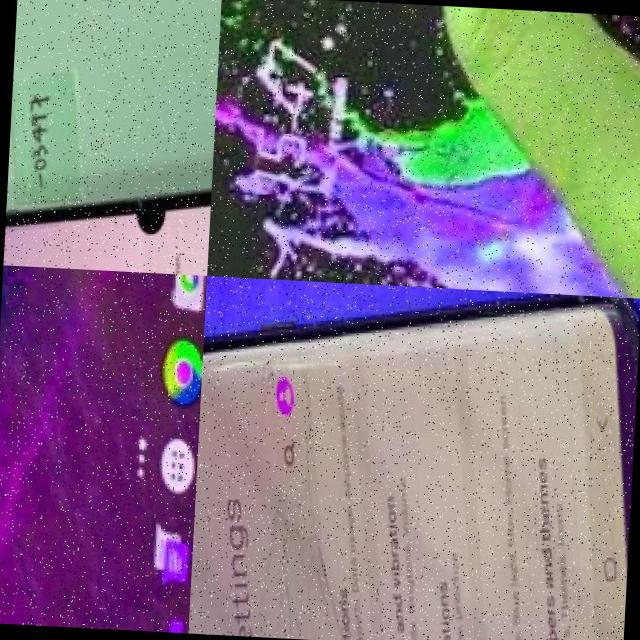dead pixel: (136, 188, 183, 260)
screen crack: (245, 343, 435, 640), (497, 291, 640, 505)
